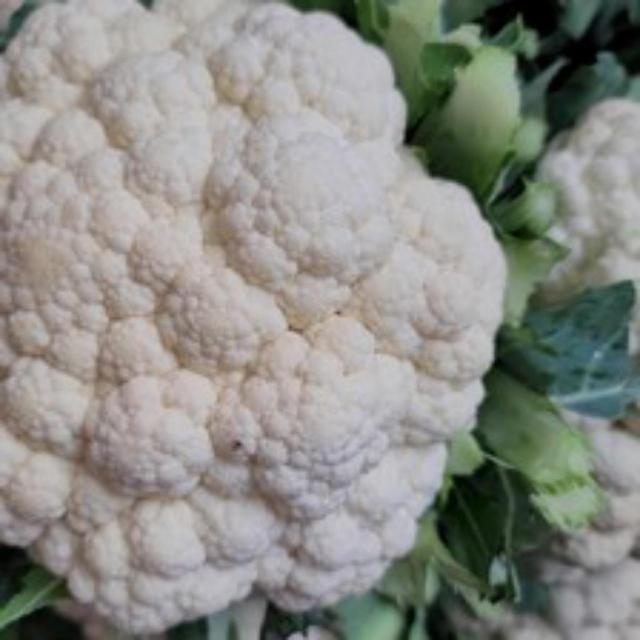cauliflower: (2, 0, 522, 640)
